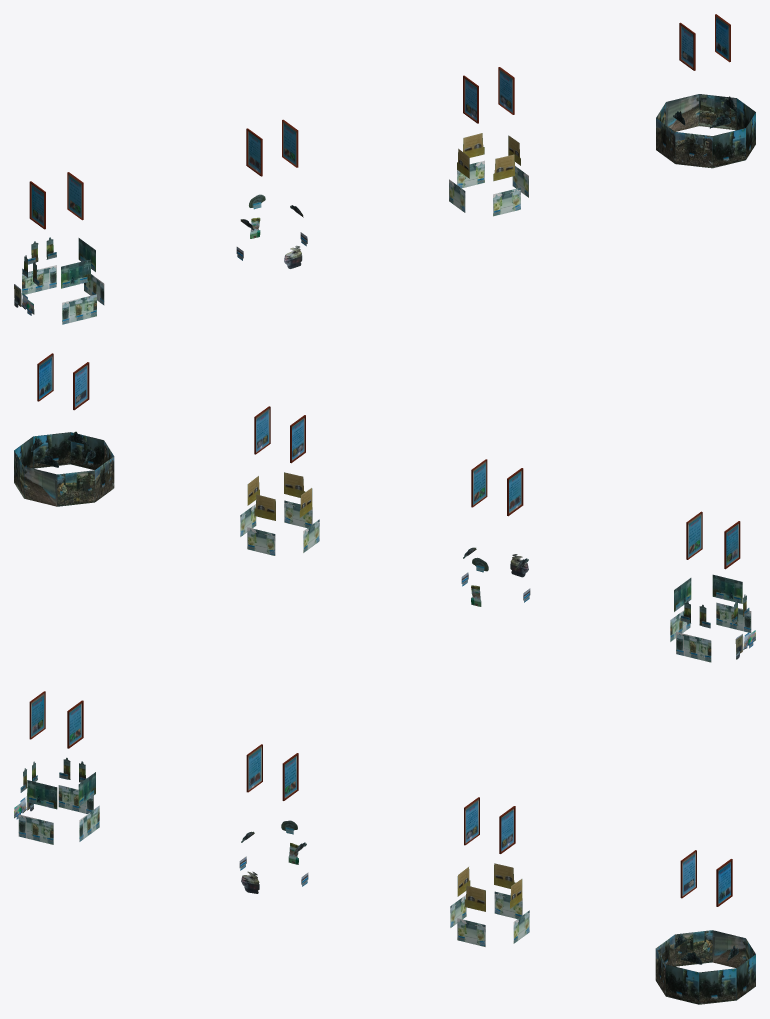
The picture shows the model from 3 angles, top to bottom: view 1: azimuth 30°, elevation 25°; view 2: azimuth 150°, elevation 25°; view 3: azimuth 330°, elevation 25°; orthographic projection.
Parts seen in each view (by area): view 1: 对象576, 对象552, 对象553, 对象554, 对象566, 对象569; view 2: 对象576, 对象553, 对象552, 对象554, 对象569, 对象566; view 3: 对象576, 对象552, 对象554, 对象553, 对象566, 对象569.
Boxes of the visible parts, x1=… form: 对象576: x1=656, y1=94, x2=755, y2=168; 对象552: x1=62, y1=294, x2=96, y2=324; 对象553: x1=22, y1=265, x2=56, y2=295; 对象554: x1=61, y1=259, x2=90, y2=288; 对象566: x1=493, y1=187, x2=520, y2=216; 对象569: x1=457, y1=160, x2=484, y2=188; 对象576: x1=14, y1=432, x2=114, y2=506; 对象553: x1=676, y1=632, x2=711, y2=662; 对象552: x1=716, y1=602, x2=751, y2=632; 对象554: x1=712, y1=574, x2=742, y2=603; 对象569: x1=247, y1=527, x2=275, y2=555; 对象566: x1=284, y1=500, x2=312, y2=527; 对象576: x1=655, y1=930, x2=755, y2=1004; 对象552: x1=18, y1=814, x2=53, y2=844; 对象554: x1=27, y1=780, x2=57, y2=809; 对象553: x1=58, y1=785, x2=93, y2=813; 对象566: x1=457, y1=918, x2=485, y2=946; 对象569: x1=494, y1=891, x2=522, y2=918.
Size of the model in its own units: 1286 by 210 by 144.
Materials: 27 (26 with a texture image).
